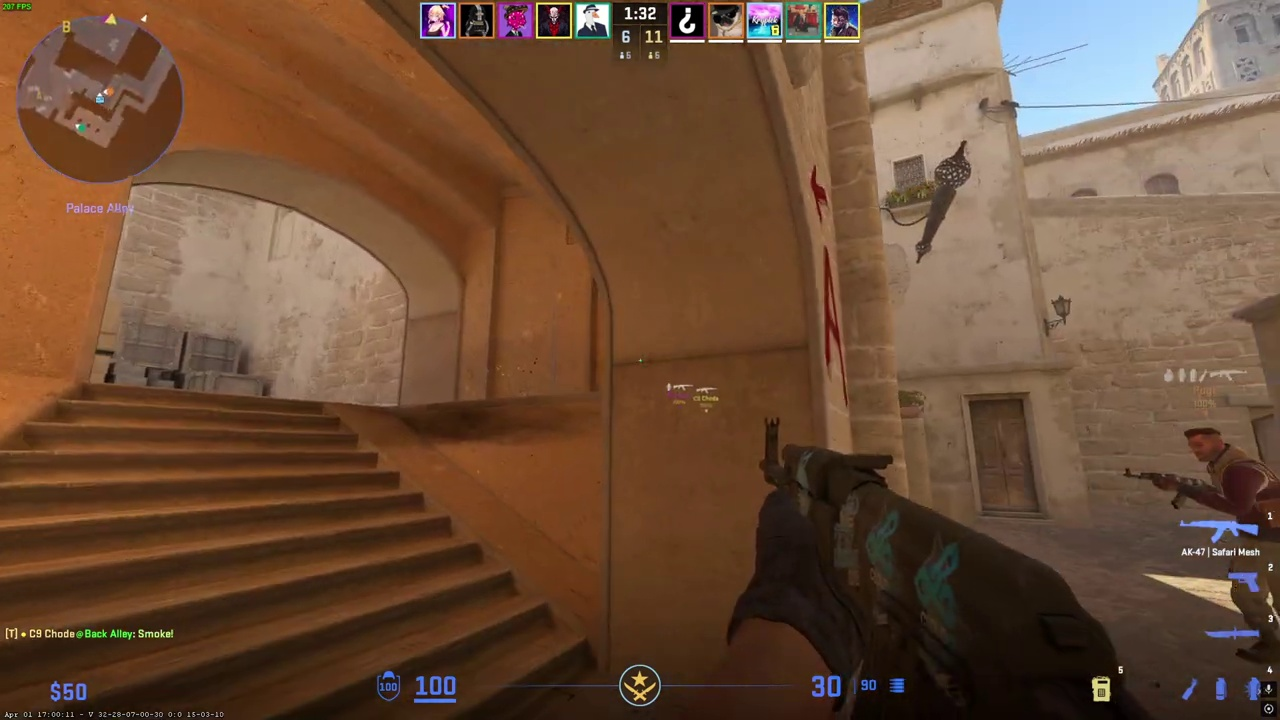Terrorist: (1183, 428, 1280, 667)
